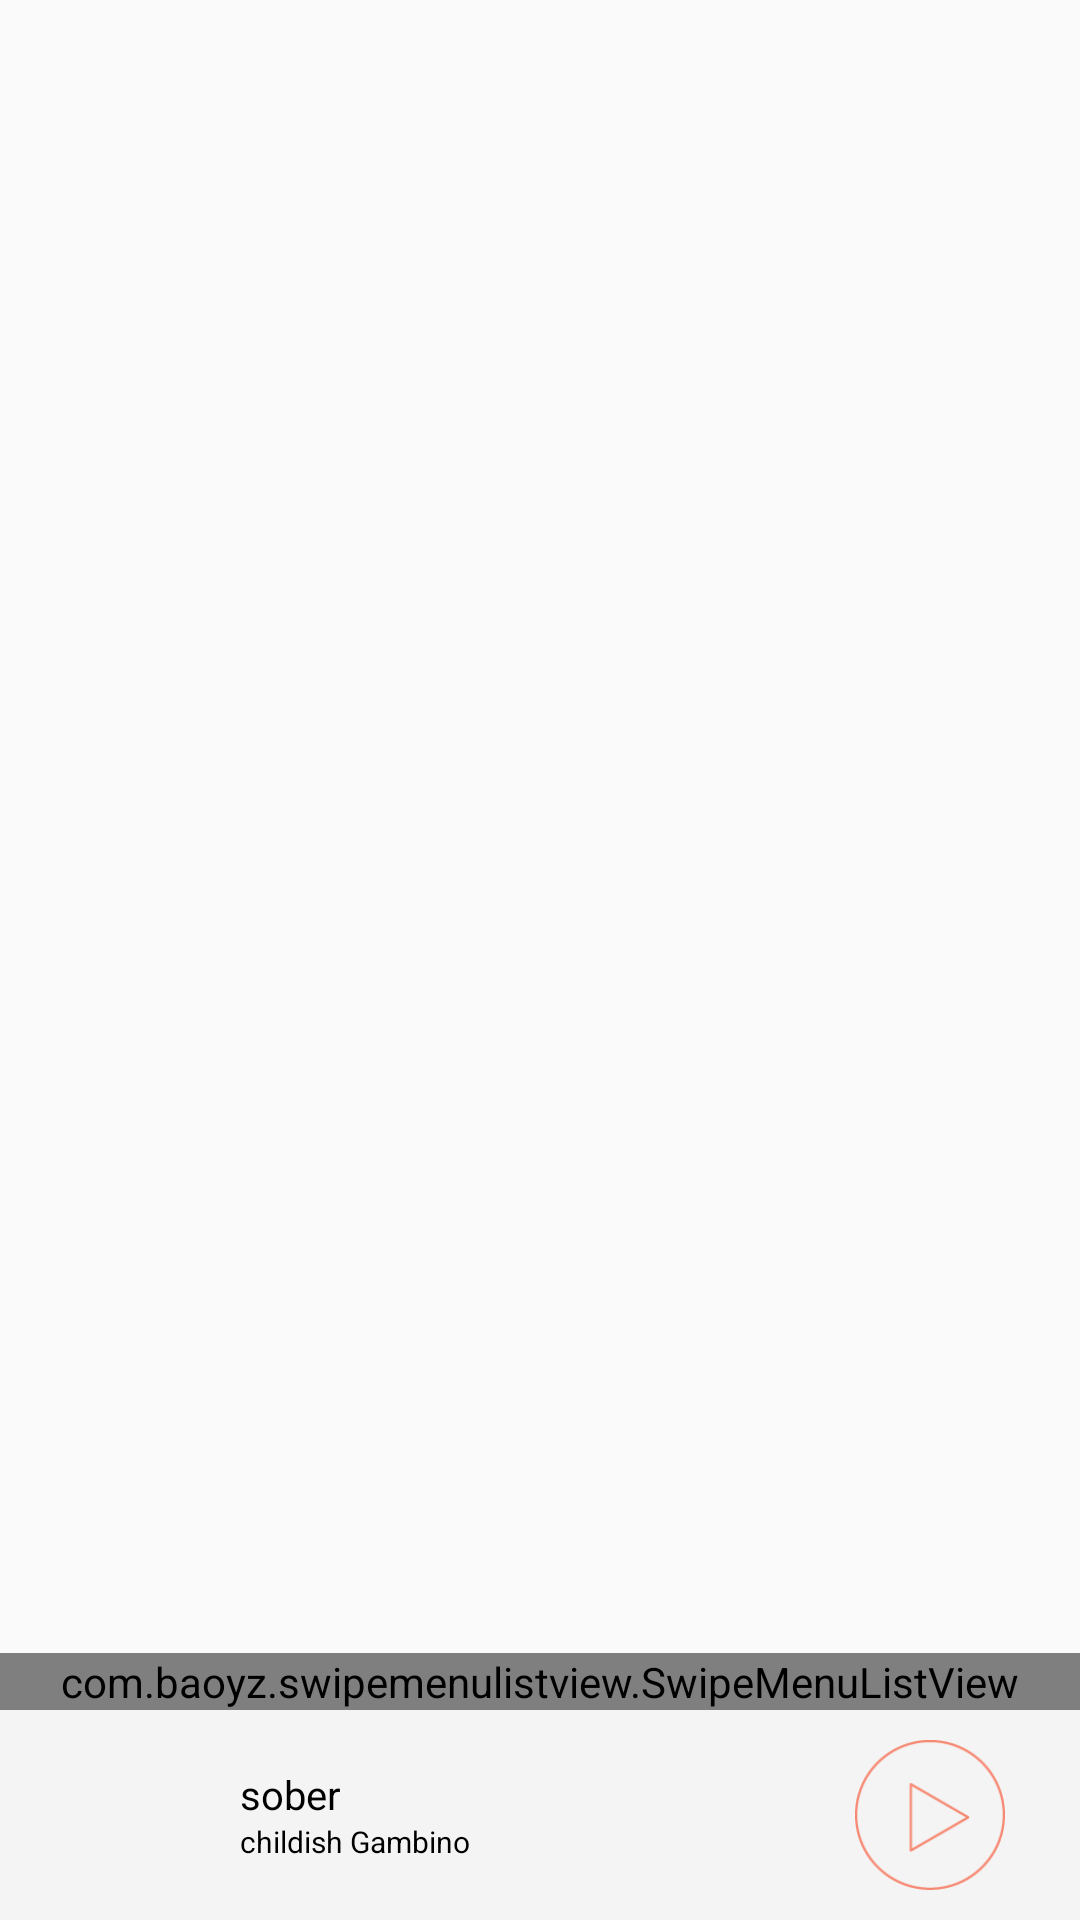

Where to tap for icons on this 1080 × 1920 app screen, as (x=x, y=y):
play: (x=930, y=1815)
